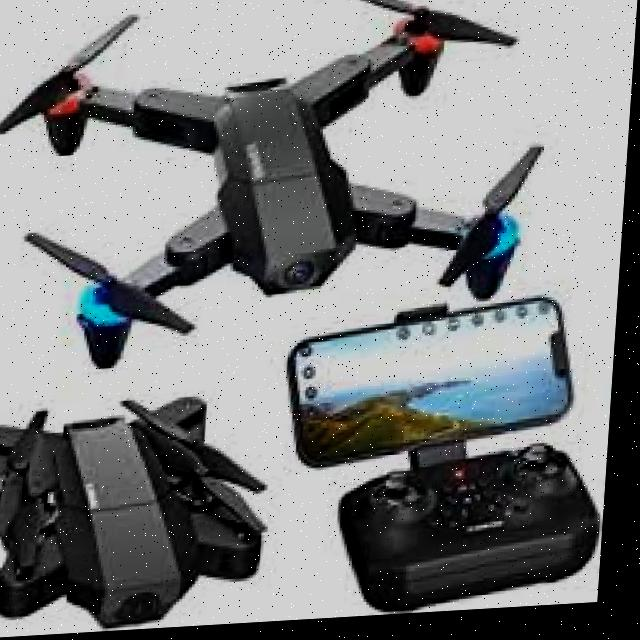drone: (0, 0, 567, 379)
